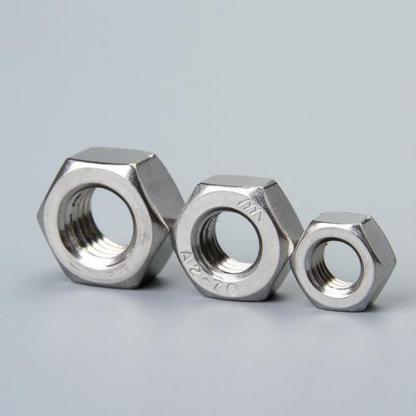FOD: (32, 146, 185, 288), (170, 172, 304, 310), (290, 208, 400, 317)
